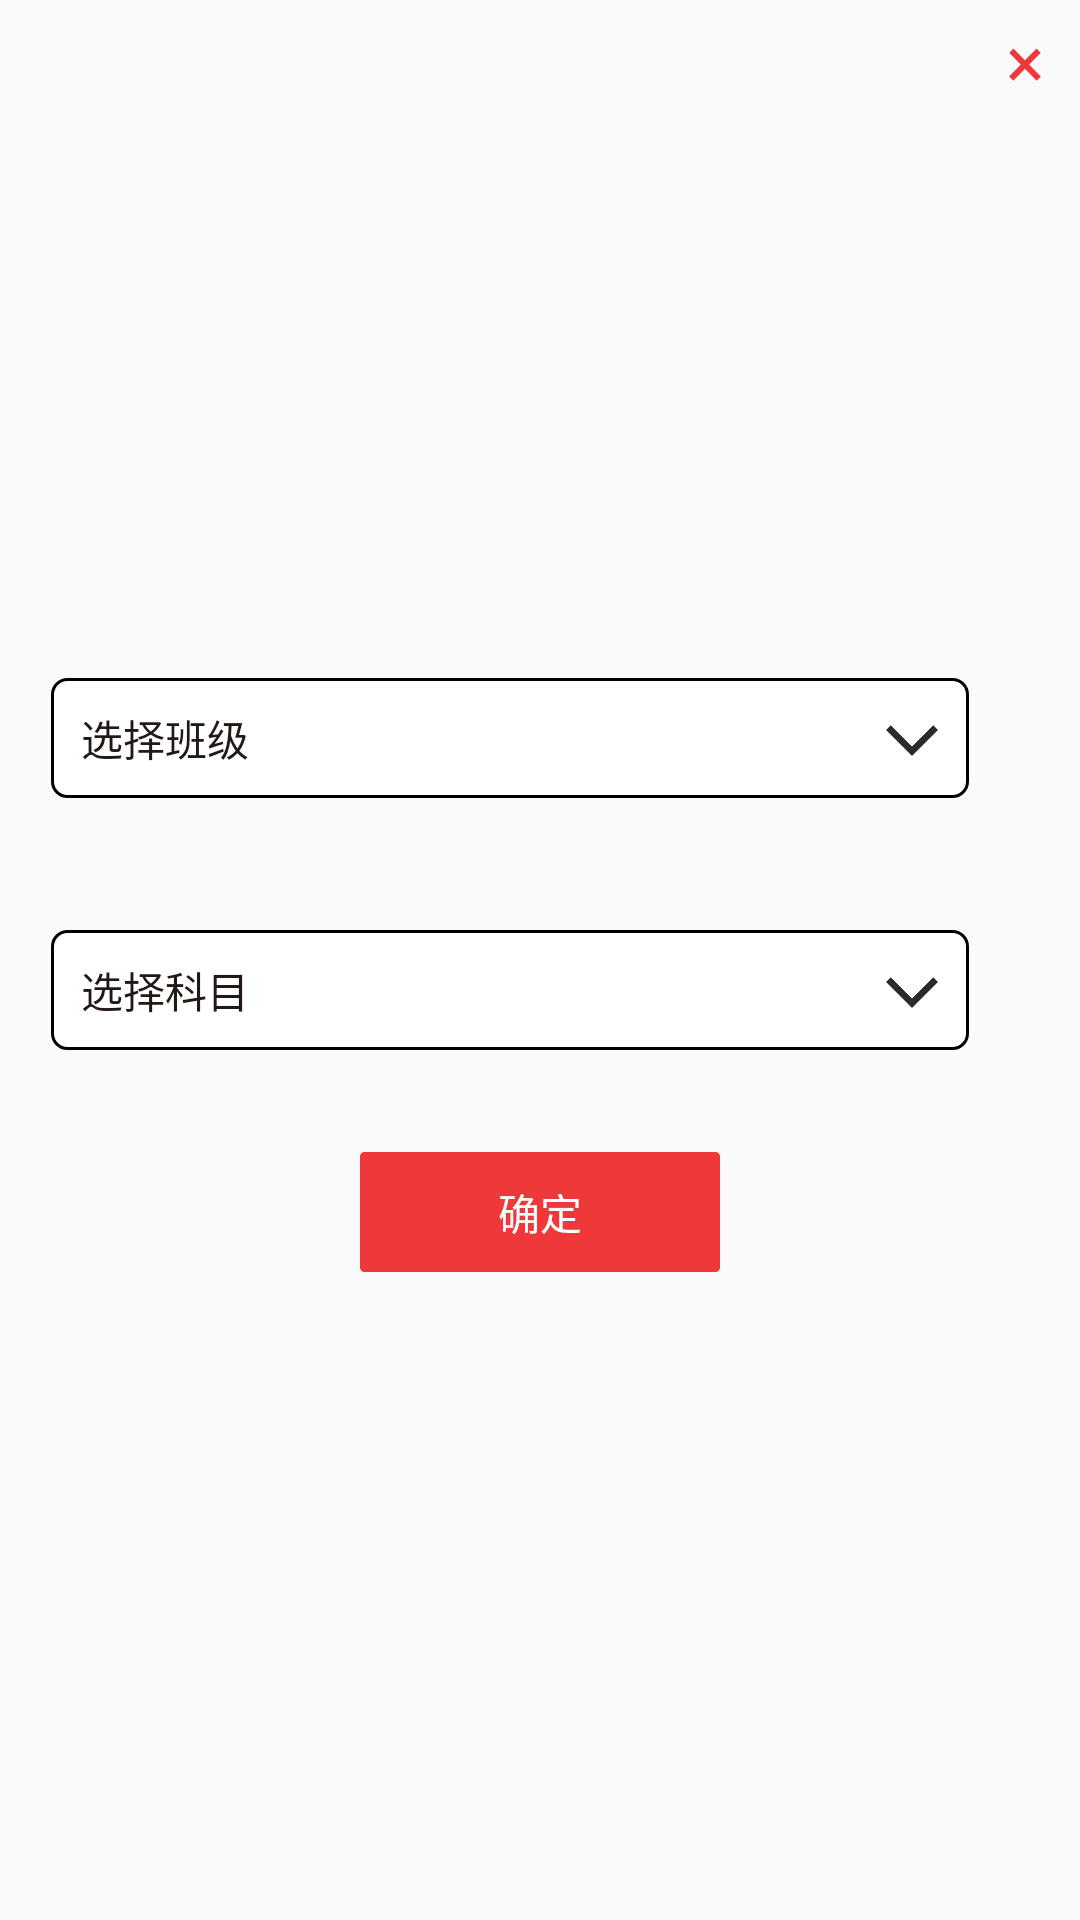

Icon bounding boxes for this 1080px x 1920px phone screenshot, format [x1=x1, y1=y1, x2=x2, y2=y2]:
morexl: [x1=886, y1=725, x2=938, y2=756], [x1=886, y1=977, x2=938, y2=1008]
